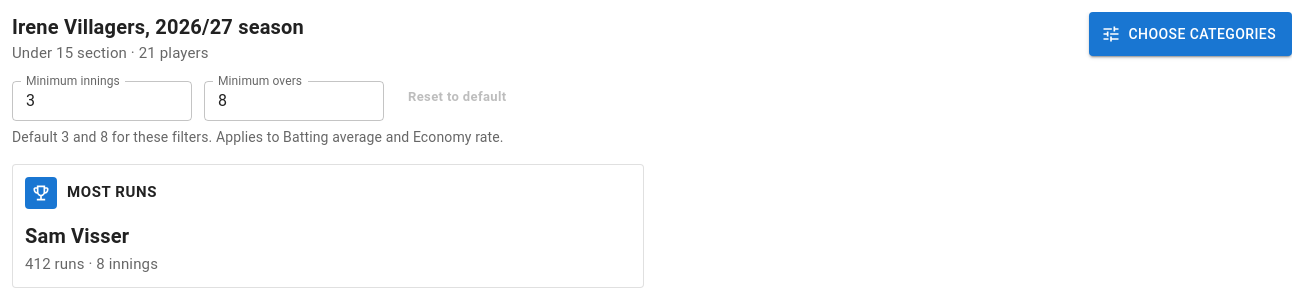
AwardsView › a changed minimum is sent after a debounce, and Reset to default goes back to the server defaults
the field selects its text on focus, so typing replaces the pre-filled default
Type "5" into the field named "Minimum innings" at (102, 100), box [12,80,192,120]
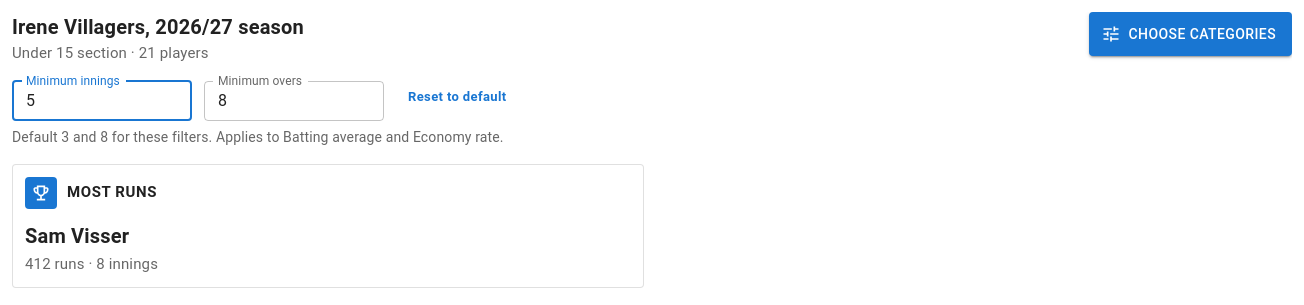
Check: the button "Reset to default" is enabled
Click the button "Reset to default" at (457, 96), box [396,80,518,112]
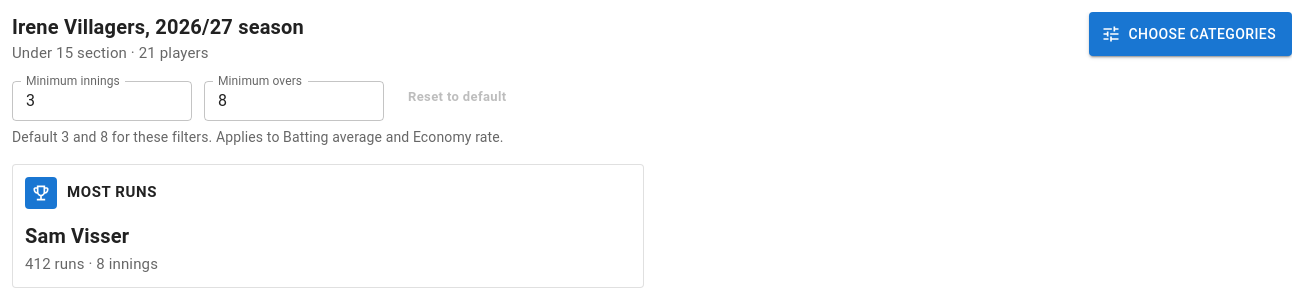
Check: the field named "Minimum innings" holds "3", box [12,80,192,120]
Check: the button "Reset to default" is disabled, box [396,80,518,112]
